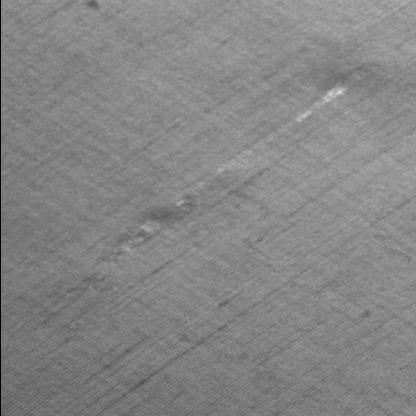thread error: (74, 59, 388, 292)
